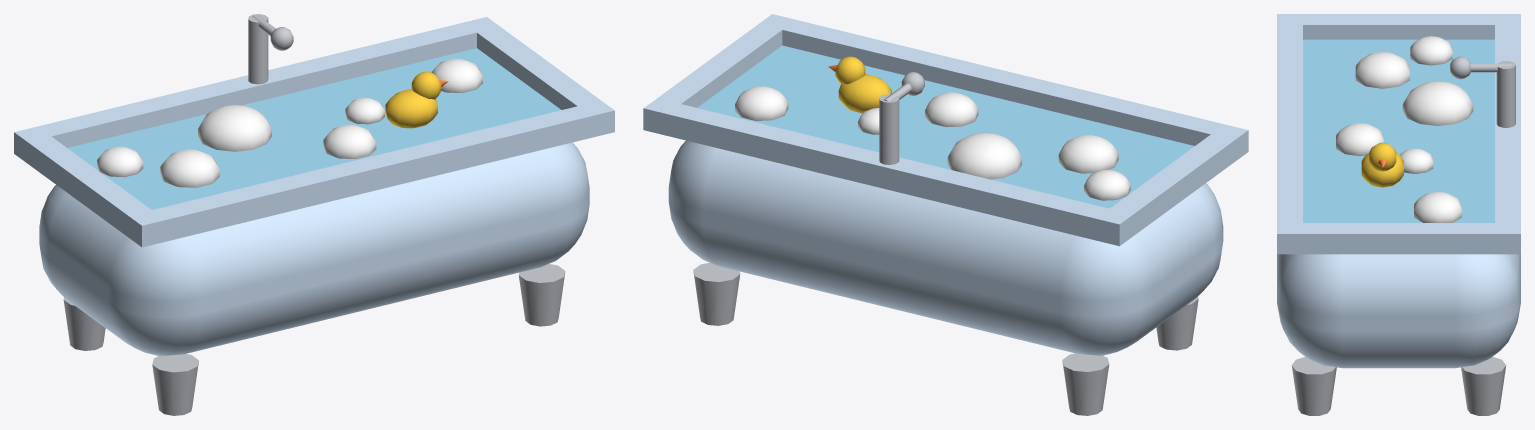
The model's file is bathtub-bubble.glb.
3 renders of one model, left to right at view 1: azimuth 30°, elevation 25°; view 2: azimuth 150°, elevation 25°; view 3: azimuth 270°, elevation 25°, orthographic. The views are drawn at different scales.
Bounding box in the file's own units: 1.6 × 0.905 × 0.75.
